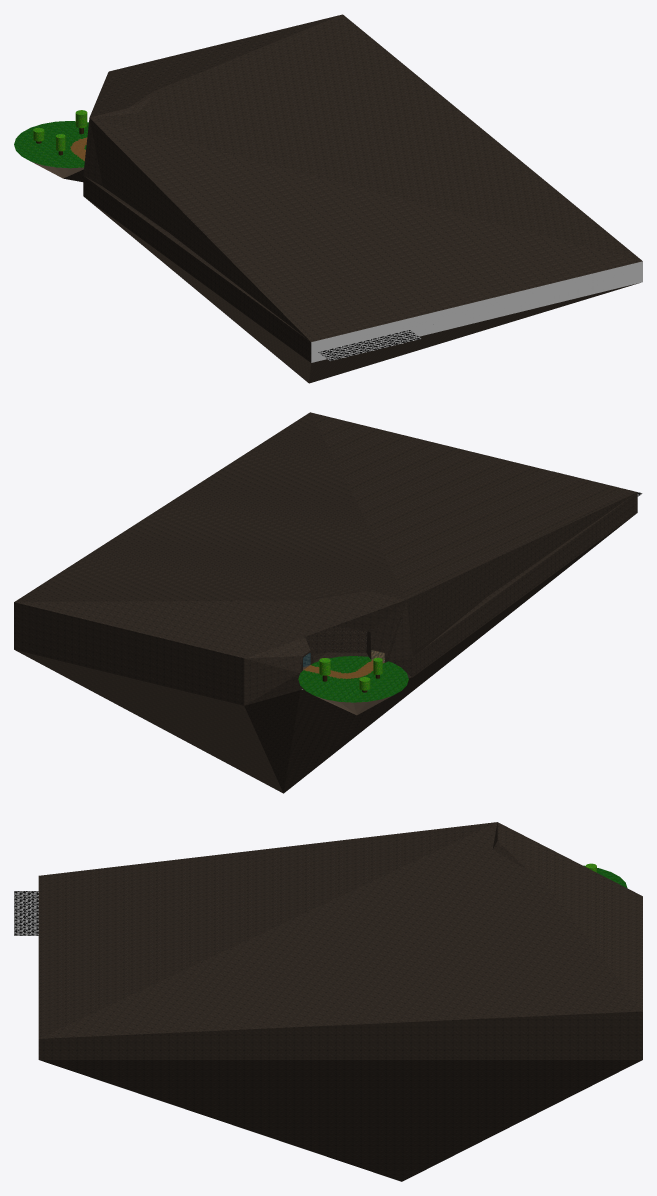
3 views of the same model, one above another, from view 1: azimuth 30°, elevation 25°; view 2: azimuth 150°, elevation 25°; view 3: azimuth 270°, elevation 25° (orthographic). The views are drawn at different scales.
Visible parts, largest first — view 1: Course-SKP--Material6, Course-SKP--Default_Material, Course-SKP--Material1, Course-SKP--Material4, Course-SKP--Grass.001; view 2: Course-SKP--Material6, Course-SKP--Material1; view 3: Course-SKP--Material6, Course-SKP--Material4.
Part boxes in pixels (box(x1,y1,x2,y2)): Course-SKP--Material6: box(64, 14, 642, 383); Course-SKP--Default_Material: box(311, 261, 642, 362); Course-SKP--Material1: box(14, 121, 88, 168); Course-SKP--Material4: box(318, 330, 421, 360); Course-SKP--Grass.001: box(33, 110, 87, 151); Course-SKP--Material6: box(14, 412, 637, 793); Course-SKP--Material1: box(298, 656, 408, 702); Course-SKP--Material6: box(38, 822, 642, 1181); Course-SKP--Material4: box(14, 891, 38, 935).
Size of the model in its own units: 99458 by 72743 by 150657.
16 materials, 15 textured.
